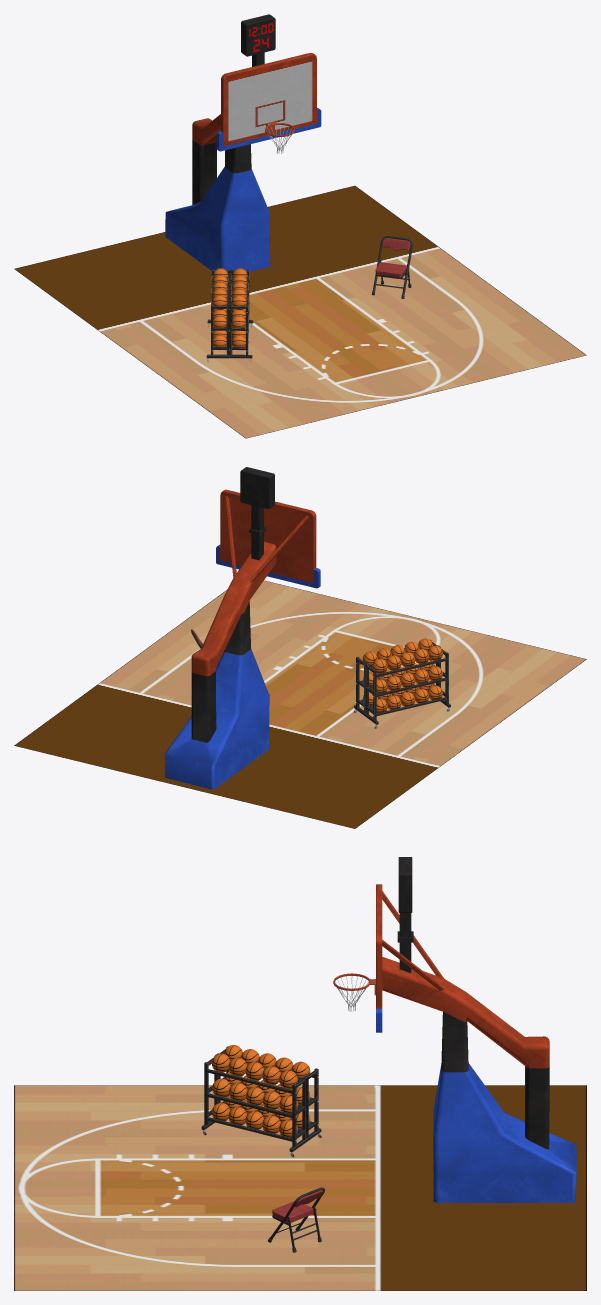
File: basketball_court_2.glb
3 views of the same model, one above another, from view 1: azimuth 30°, elevation 25°; view 2: azimuth 150°, elevation 25°; view 3: azimuth 270°, elevation 25° (orthographic). The views are drawn at different scales.
Parts seen in each view (by area): view 1: Cancha, Aro, Carrito2, Silla; view 2: Cancha, Aro, Carrito2; view 3: Cancha, Aro, Carrito2, Silla.
Part boxes in pixels (<box>): Cancha: <box>14,185,586,438</box>; Aro: <box>165,14,321,271</box>; Carrito2: <box>206,268,253,361</box>; Silla: <box>371,236,412,298</box>; Cancha: <box>14,580,586,828</box>; Aro: <box>165,467,320,789</box>; Carrito2: <box>353,638,450,728</box>; Cancha: <box>14,1085,586,1290</box>; Aro: <box>333,857,576,1202</box>; Carrito2: <box>201,1045,321,1157</box>; Silla: <box>268,1187,324,1252</box>.
Size of the model in its own units: 13.48 by 9.88 by 15.86.
Materials: 4 (4 with a texture image).
